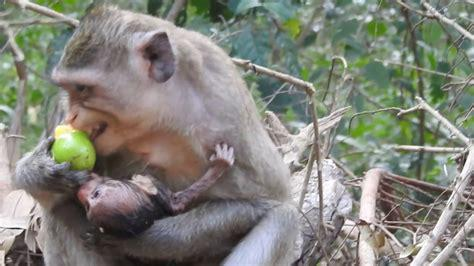monkey: (18, 9, 302, 266), (17, 137, 233, 239)
